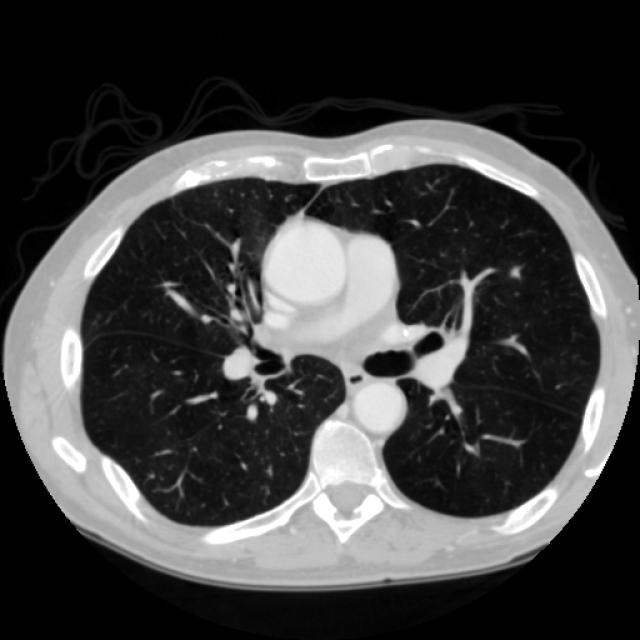nodule: (498, 255, 530, 287)
